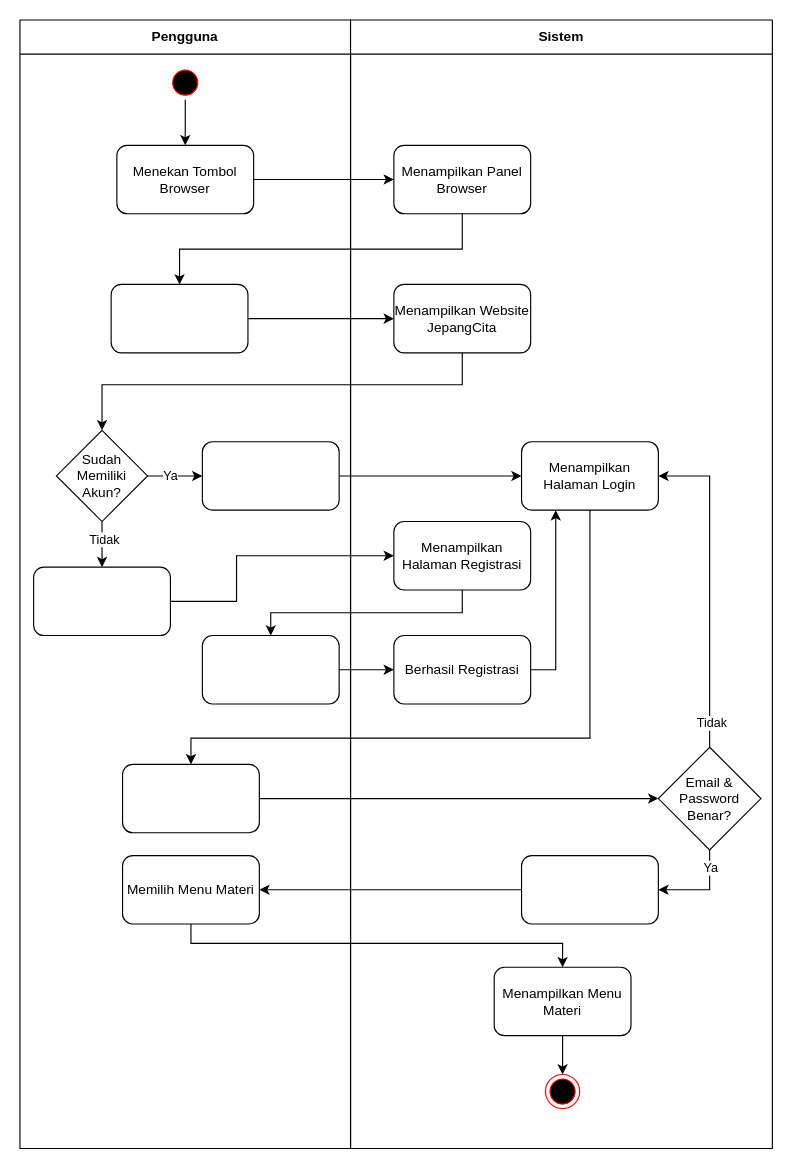
Image size: 792x1169. Some labels were removed from this diagram. The shapes that lost their labels are listed below. From the top down, each one's centre as x and y in pixels, then its label:
point (179, 318): Mengetik "JepangCita" pada Search Bar
point (270, 475): Memilih Menu Login
point (101, 601): Memilih Menu Registrasi
point (270, 669): Mengisi Form Registrasi
point (190, 798): Mengisi Form Login
point (589, 889): Menampilkan Halaman Dashboard
